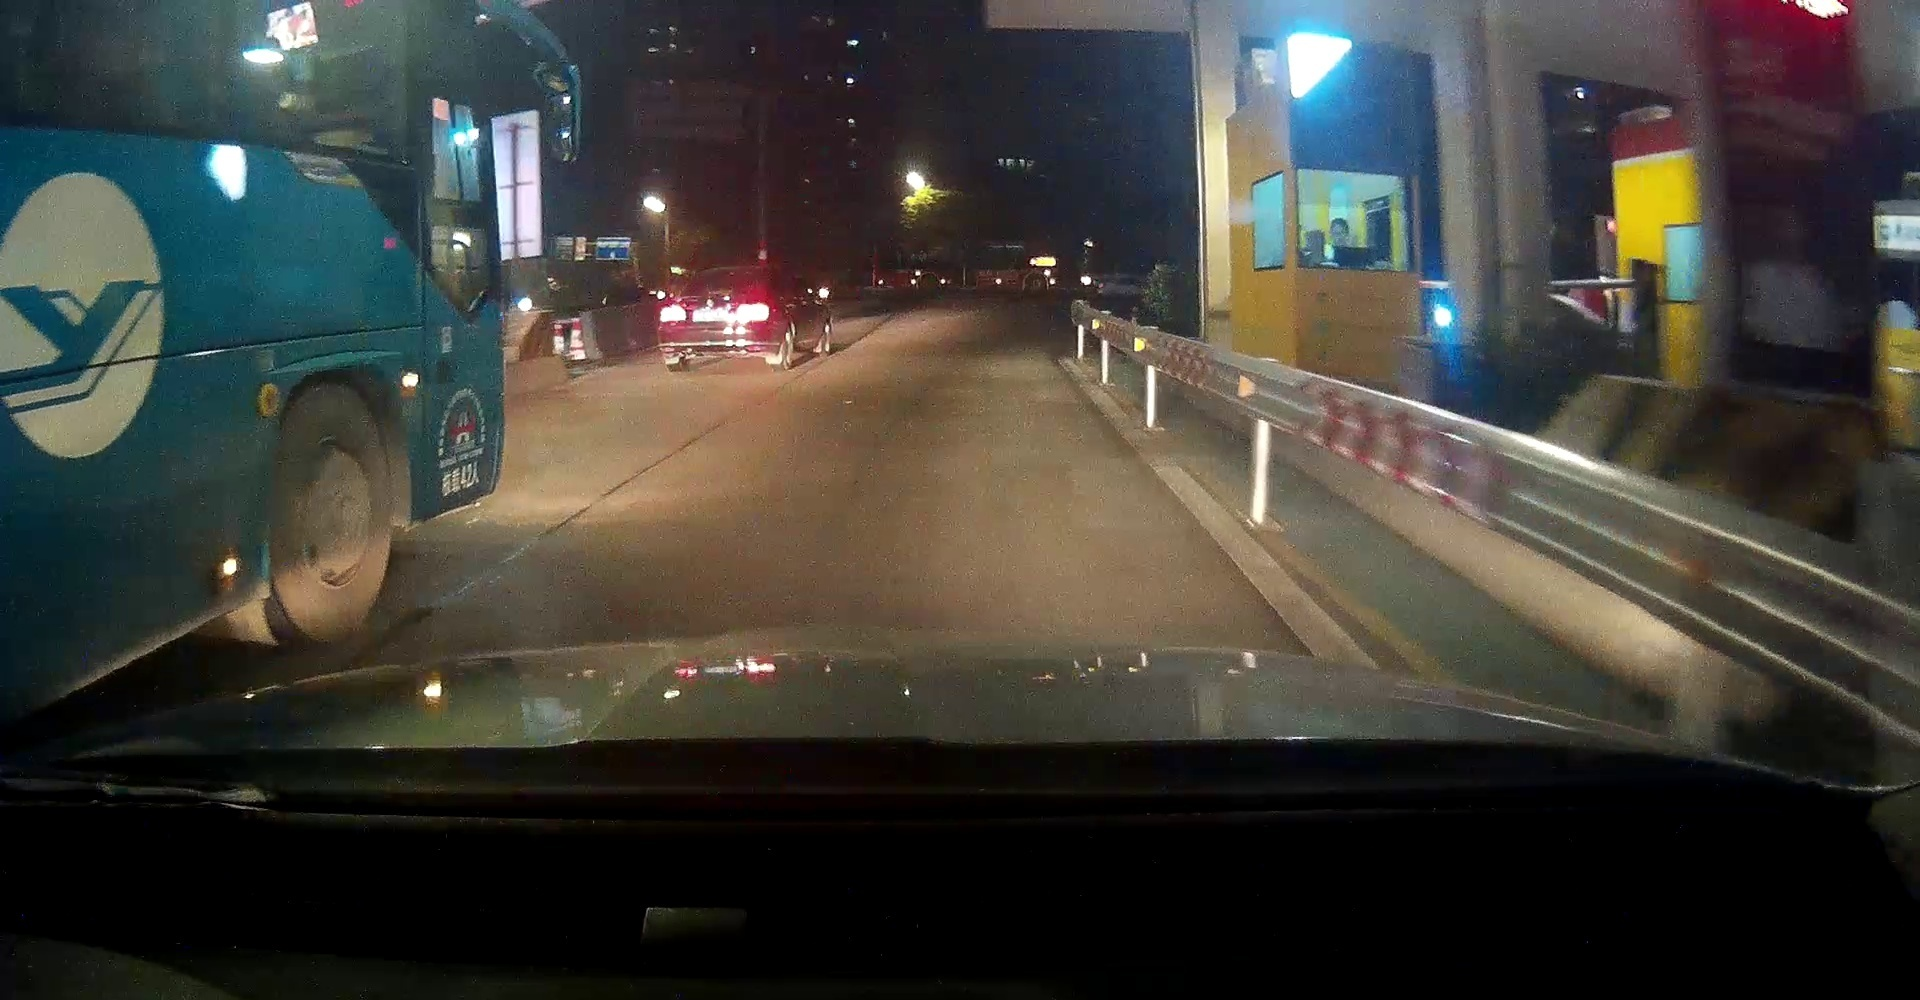L_light: (658, 305, 686, 321)
R_light: (737, 303, 770, 324)
T_light: (709, 291, 731, 294)
night-no: (657, 263, 780, 371)
